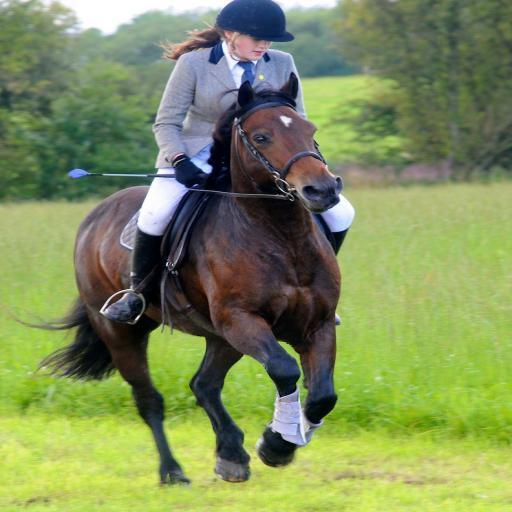horse: (12, 69, 342, 483)
